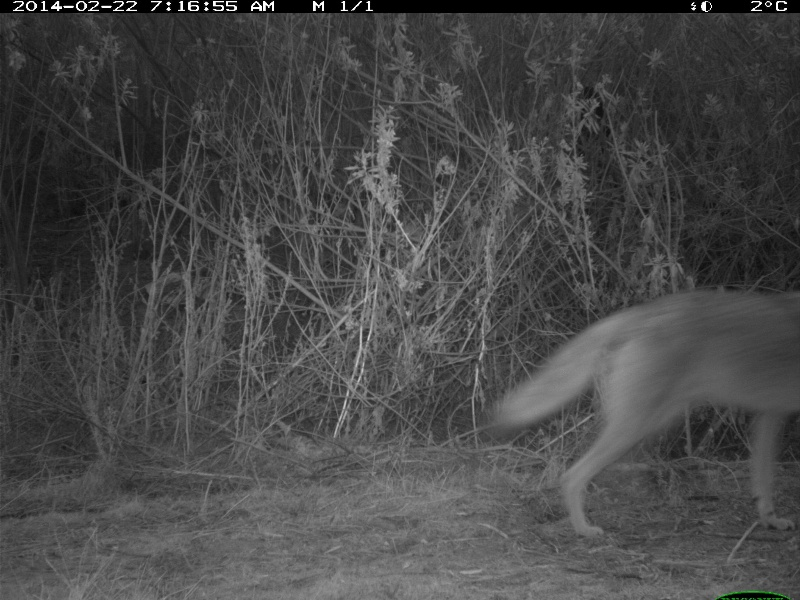coyote: (484, 287, 800, 548)
